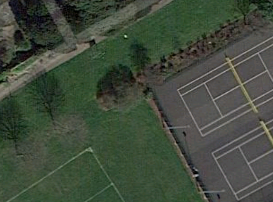tree: (85, 60, 156, 123), (43, 99, 93, 154), (1, 118, 48, 174)
